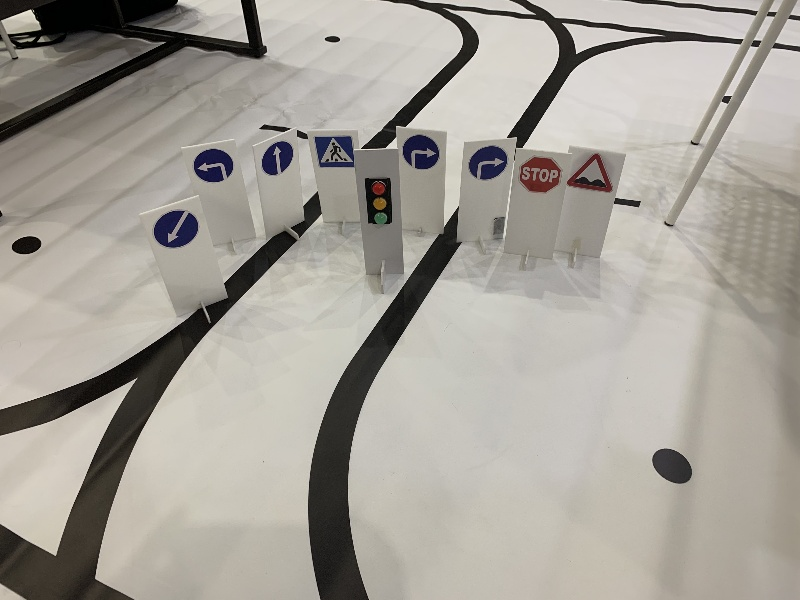Left: (193, 147, 233, 185)
Nerov: (566, 153, 615, 194)
Right: (400, 134, 441, 172), (468, 144, 508, 181)
Stop: (520, 156, 560, 194)
forw: (261, 142, 295, 176)
pesh: (314, 133, 355, 174)
prep: (153, 209, 198, 247)
